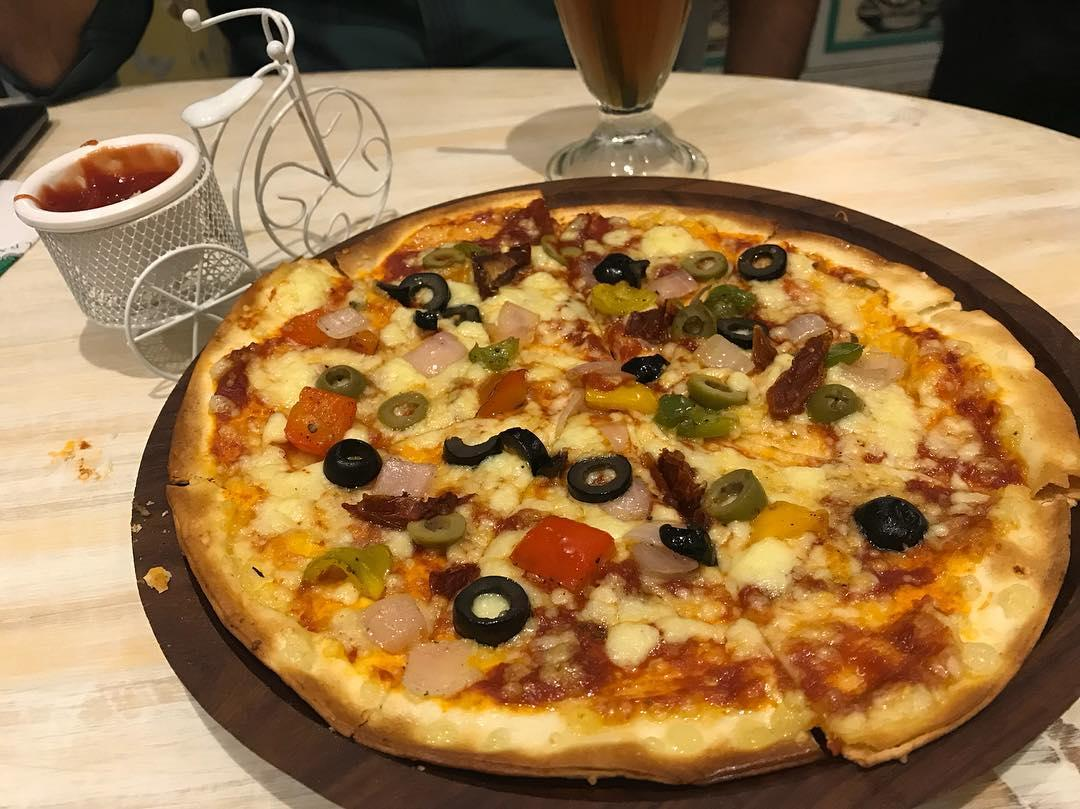Cheese: (589, 598, 719, 659), (869, 393, 932, 473), (732, 543, 790, 593), (780, 465, 834, 506)
Ham: (356, 589, 429, 651), (403, 643, 475, 694), (626, 529, 694, 578), (492, 300, 545, 349), (400, 336, 468, 373), (380, 462, 430, 506), (599, 412, 638, 451), (609, 478, 651, 513), (646, 270, 701, 296)
Olives: (438, 428, 557, 479), (309, 535, 396, 598), (853, 489, 928, 555), (458, 578, 527, 635), (566, 452, 637, 506), (699, 466, 761, 525), (806, 378, 863, 425), (320, 440, 379, 484), (665, 518, 718, 566), (689, 372, 755, 409), (398, 266, 447, 312), (678, 245, 732, 284), (409, 510, 465, 546), (703, 282, 756, 318), (419, 302, 486, 329), (669, 303, 716, 341), (720, 313, 772, 345), (469, 338, 523, 366), (382, 395, 426, 426), (740, 245, 784, 275), (318, 363, 361, 392), (626, 352, 668, 381), (595, 255, 638, 283)
Pizza: (175, 192, 1080, 781)
Tomatoes: (509, 512, 610, 580), (283, 388, 353, 449), (469, 375, 529, 413)
